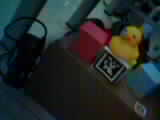duck: (104, 16, 143, 65)
